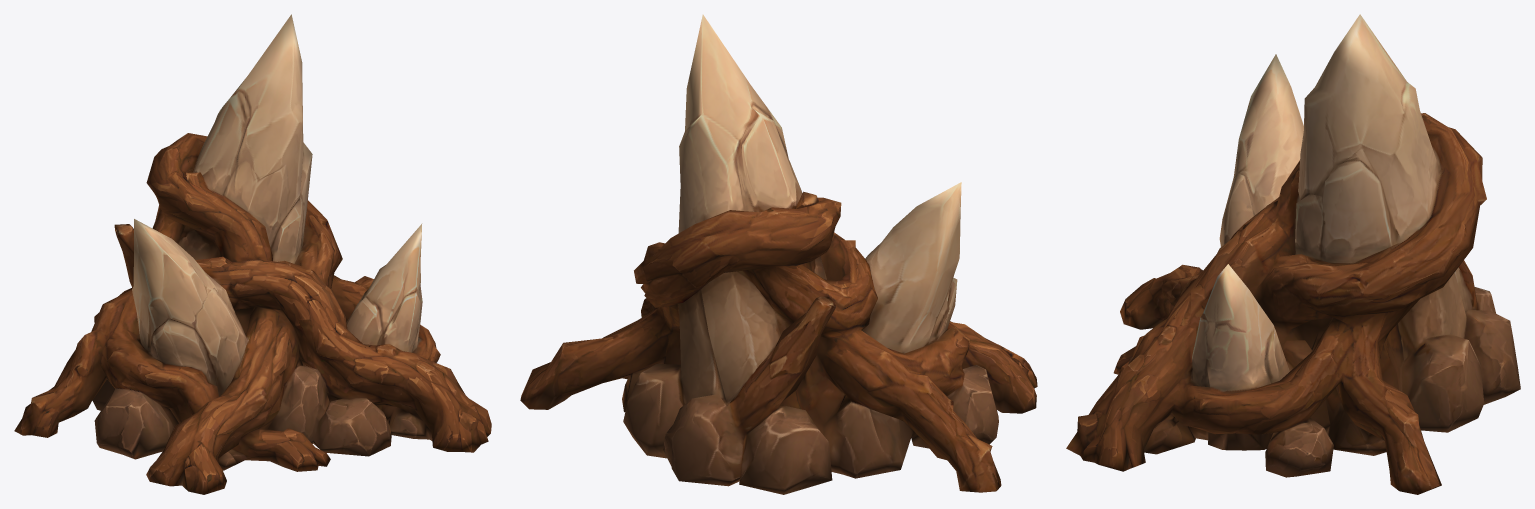
The model's file is source_2.glb.
The picture shows the model from 3 angles, left to right: view 1: azimuth 30°, elevation 25°; view 2: azimuth 150°, elevation 25°; view 3: azimuth 270°, elevation 25°; orthographic projection. The views are drawn at different scales.
Visible parts, largest first — view 1: tripo_node_993eb7f6-66b0-4be4-8170-b1b384a5892e; view 2: tripo_node_993eb7f6-66b0-4be4-8170-b1b384a5892e; view 3: tripo_node_993eb7f6-66b0-4be4-8170-b1b384a5892e.
Part boxes in pixels (left/top/right/bottom): tripo_node_993eb7f6-66b0-4be4-8170-b1b384a5892e: left=14, top=14, right=491, bottom=494; tripo_node_993eb7f6-66b0-4be4-8170-b1b384a5892e: left=520, top=14, right=1037, bottom=494; tripo_node_993eb7f6-66b0-4be4-8170-b1b384a5892e: left=1066, top=14, right=1520, bottom=494.
Size of the model in its own units: 0.9778 by 0.8195 by 0.8327.
1 material, 1 textured.
